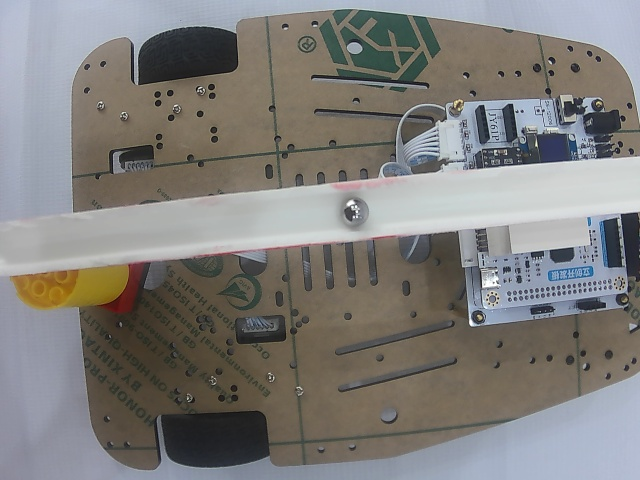steelball: (341, 196, 369, 226)
